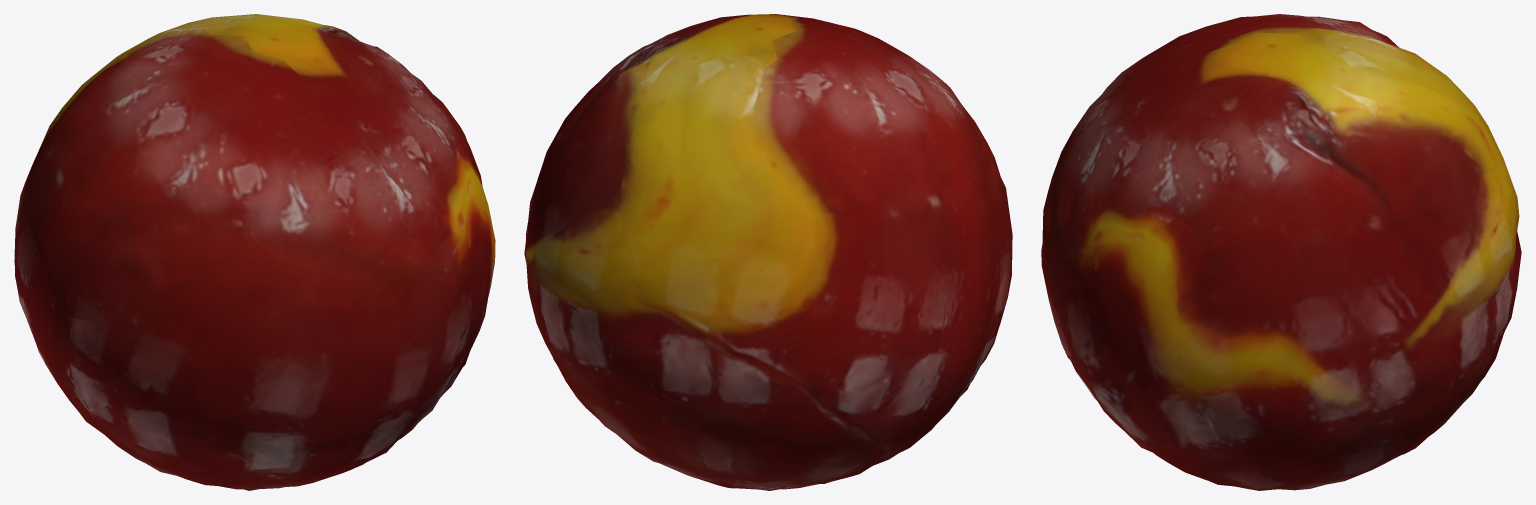
Rendered from ground_truth.glb.
3 views of the same model, side by side, from view 1: azimuth 30°, elevation 25°; view 2: azimuth 150°, elevation 25°; view 3: azimuth 270°, elevation 25° (orthographic).
Visible parts, largest first — view 1: textured.067; view 2: textured.067; view 3: textured.067.
Part boxes in pixels (x1=…): textured.067: x1=14, y1=14, x2=495, y2=490; textured.067: x1=524, y1=14, x2=1012, y2=490; textured.067: x1=1041, y1=14, x2=1521, y2=490.
Bounding box in the file's own units: 0.0353 × 0.0346 × 0.0349.
1 material, 1 textured.
